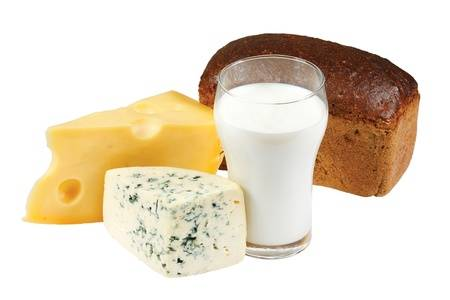glass of milk: (214, 54, 344, 260)
